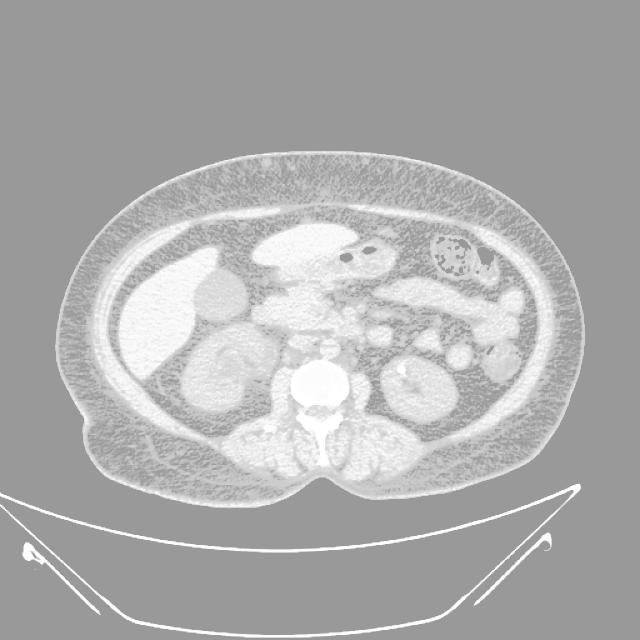STONE: (316, 218, 539, 399)
